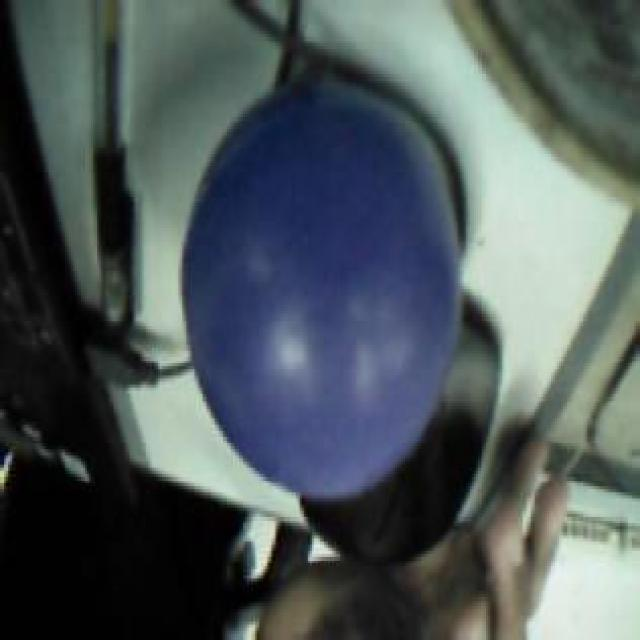BallPurple: (181, 80, 461, 496)
